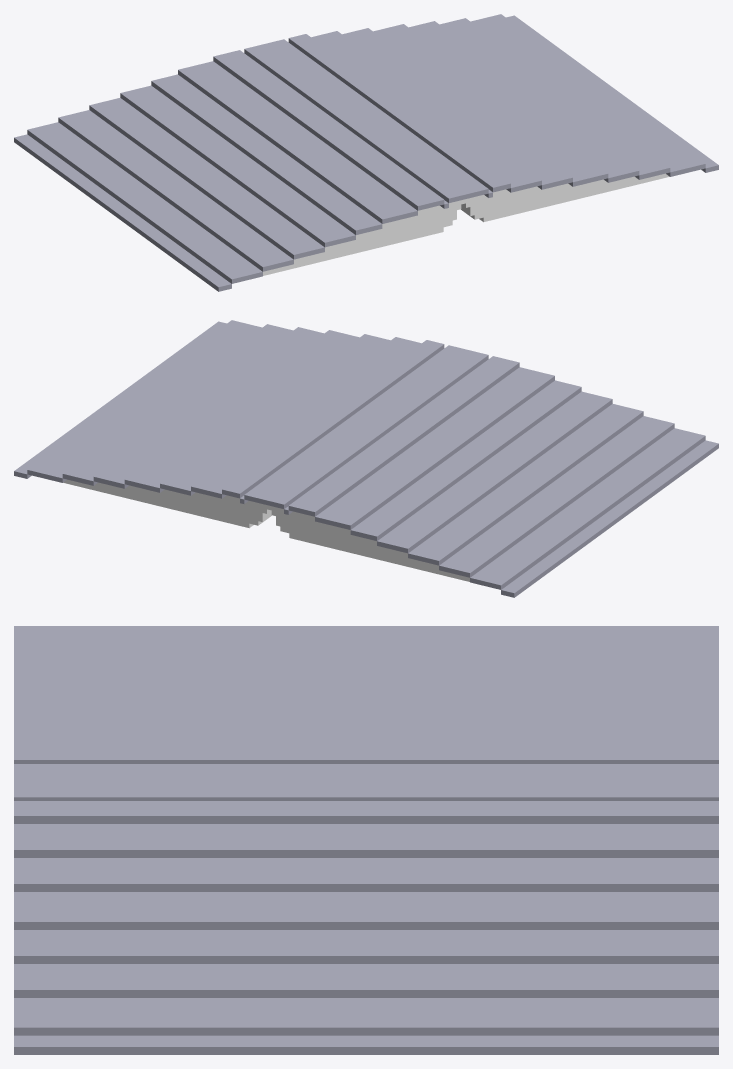
File: Book2-3.fbx
The picture shows the model from 3 angles, top to bottom: view 1: azimuth 30°, elevation 25°; view 2: azimuth 150°, elevation 25°; view 3: azimuth 270°, elevation 25°; orthographic projection. The views are drawn at different scales.
Visible parts, largest first — view 1: Book2-3.001; view 2: Book2-3.001; view 3: Book2-3.001.
Boxes of the visible parts, x1,y1,x2,y2 form: Book2-3.001: (14, 14, 718, 291); Book2-3.001: (14, 320, 718, 597); Book2-3.001: (14, 626, 718, 1054).
Size of the model in its own units: 11.3 by 0.8 by 8.
